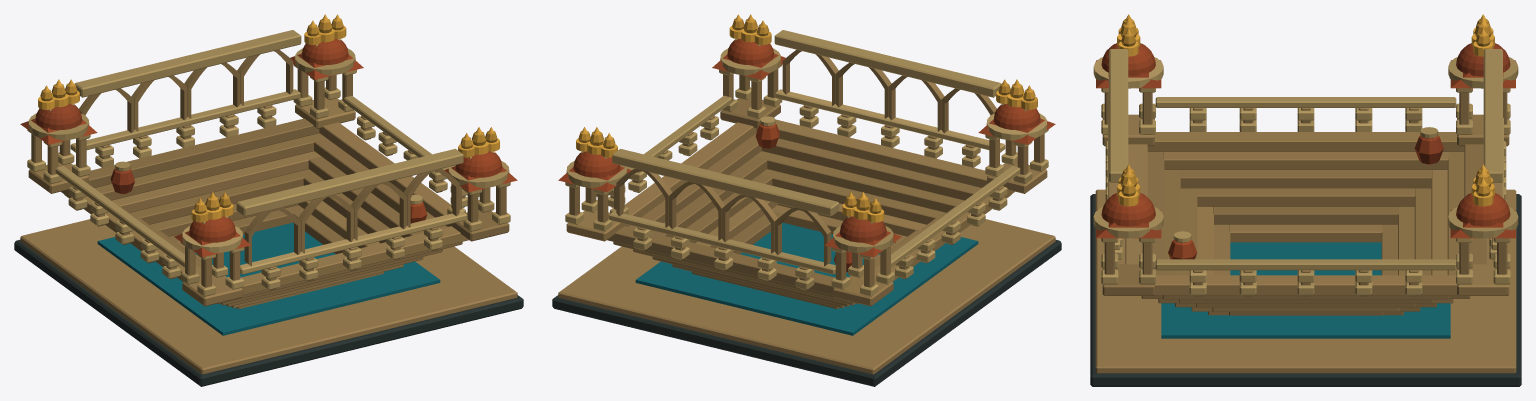
The picture shows the model from 3 angles, left to right: view 1: azimuth 30°, elevation 25°; view 2: azimuth 150°, elevation 25°; view 3: azimuth 270°, elevation 25°; orthographic projection. The views are drawn at different scales.
Visible parts, largest first — view 1: stepwell_level3_structure, stepwell_level3_metal; view 2: stepwell_level3_structure, stepwell_level3_metal; view 3: stepwell_level3_structure, stepwell_level3_metal.
Boxes of the visible parts, bbox=[...] form: stepwell_level3_structure: bbox=[14, 18, 523, 386]; stepwell_level3_metal: bbox=[38, 14, 499, 222]; stepwell_level3_structure: bbox=[552, 18, 1061, 386]; stepwell_level3_metal: bbox=[576, 14, 1037, 222]; stepwell_level3_structure: bbox=[1090, 19, 1521, 386]; stepwell_level3_metal: bbox=[1117, 14, 1494, 206].
Size of the model in its own units: 5.6 by 2.93 by 5.6.
